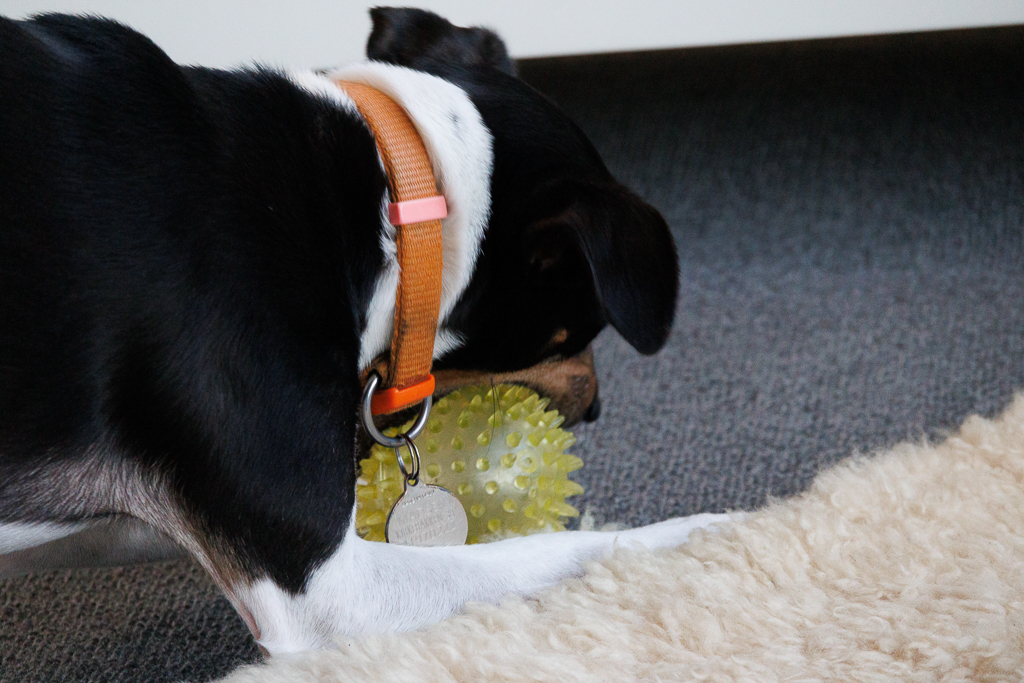Dog: (0, 5, 781, 670)
